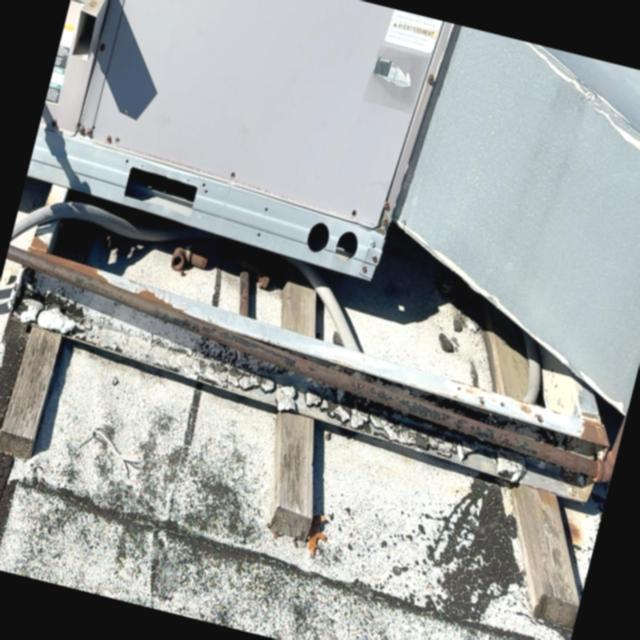RTU: (13, 0, 504, 334)
